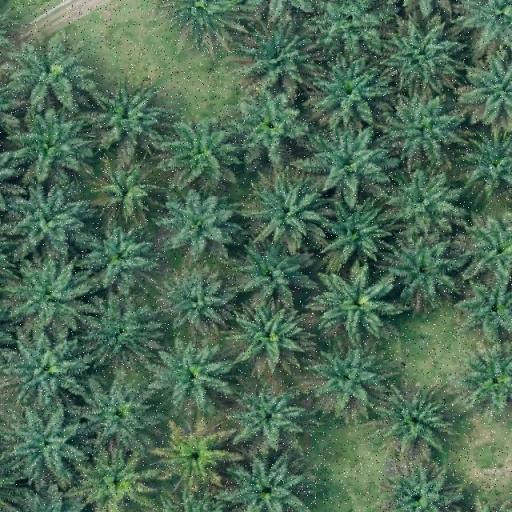Ganoderma: (168, 431, 223, 482), (92, 462, 141, 502)
